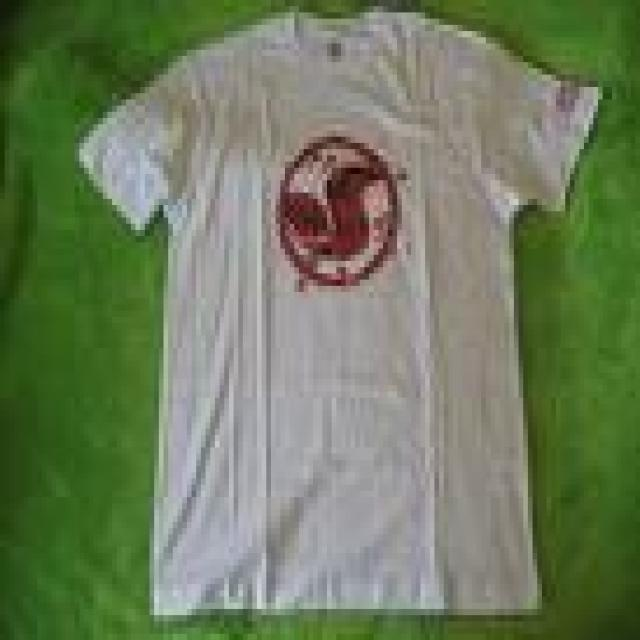shirt: (75, 6, 602, 634)
